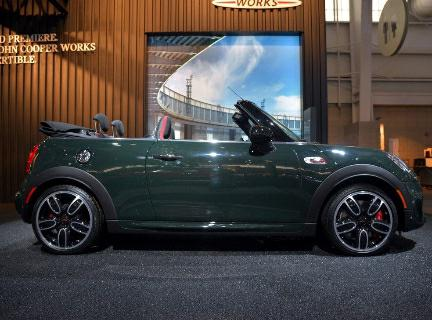MINI-JCW: (15, 99, 429, 267)
